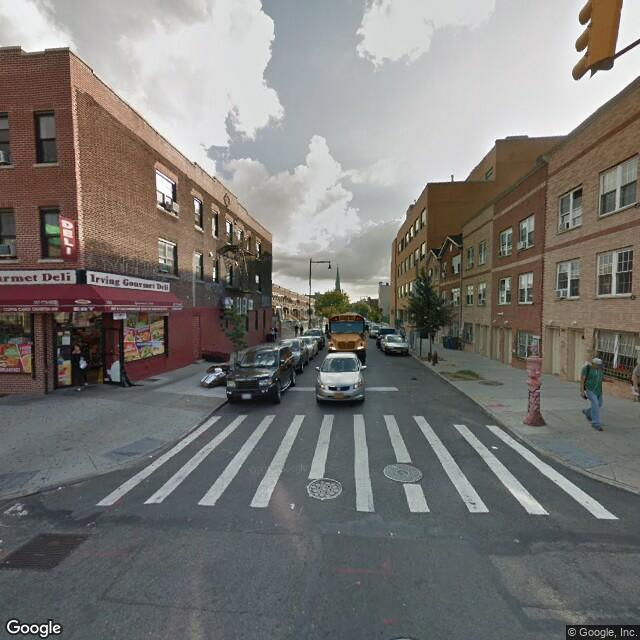litter: (199, 363, 227, 390)
